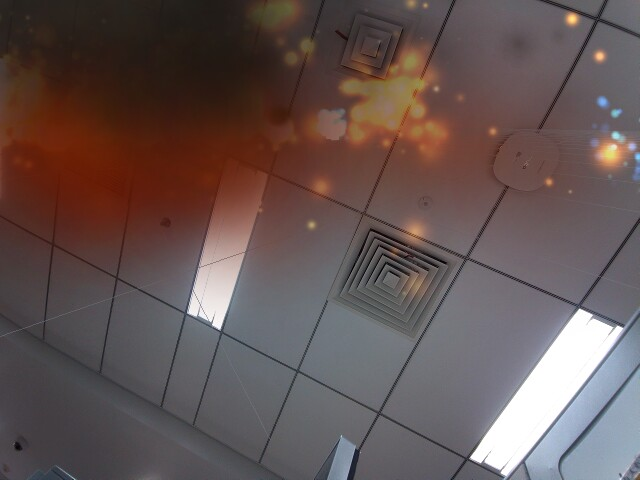fire: (30, 111, 76, 158), (264, 114, 296, 144)
